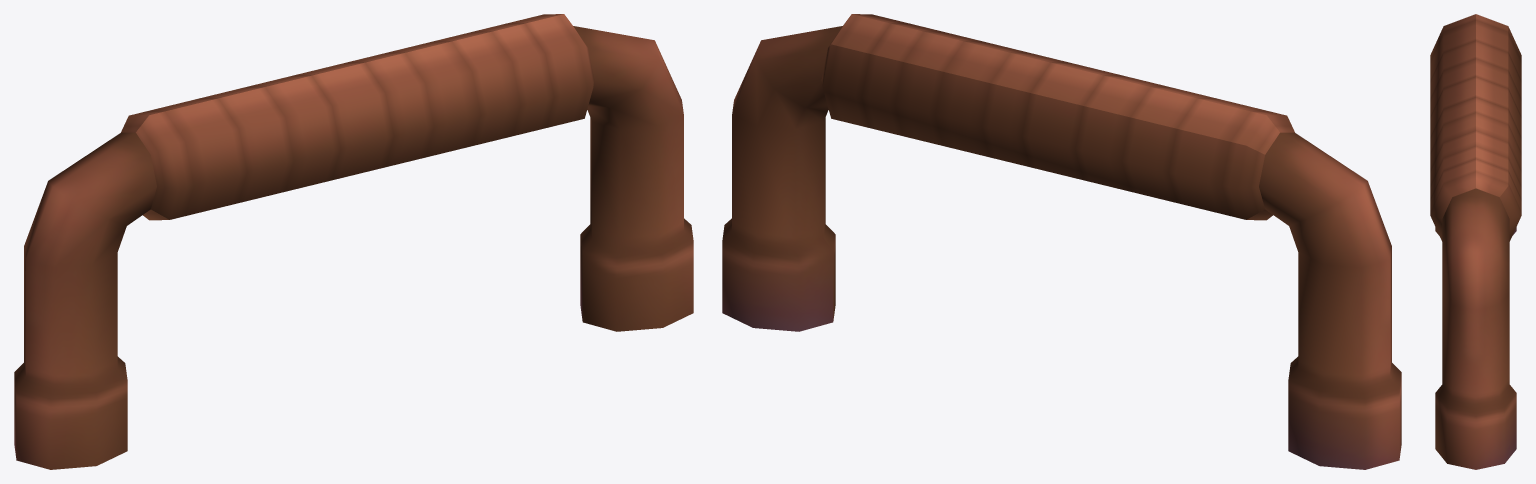
The model's file is handle_r.FBX.
The picture shows the model from 3 angles, left to right: view 1: azimuth 30°, elevation 25°; view 2: azimuth 150°, elevation 25°; view 3: azimuth 270°, elevation 25°; orthographic projection. The views are drawn at different scales.
Visible parts, largest first — view 1: Cylinder039; view 2: Cylinder039; view 3: Cylinder039.
Boxes of the visible parts, bbox=[...] form: Cylinder039: bbox=[14, 14, 693, 469]; Cylinder039: bbox=[722, 14, 1401, 469]; Cylinder039: bbox=[1430, 14, 1521, 469].
Bounding box in the file's own units: 13.04 × 5.78 × 1.94.
